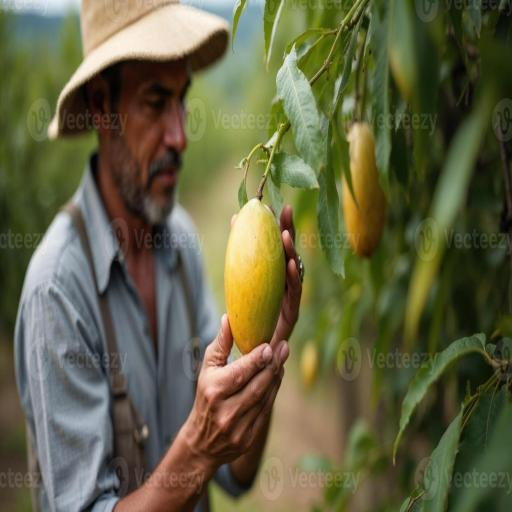mango: (225, 199, 285, 354)
